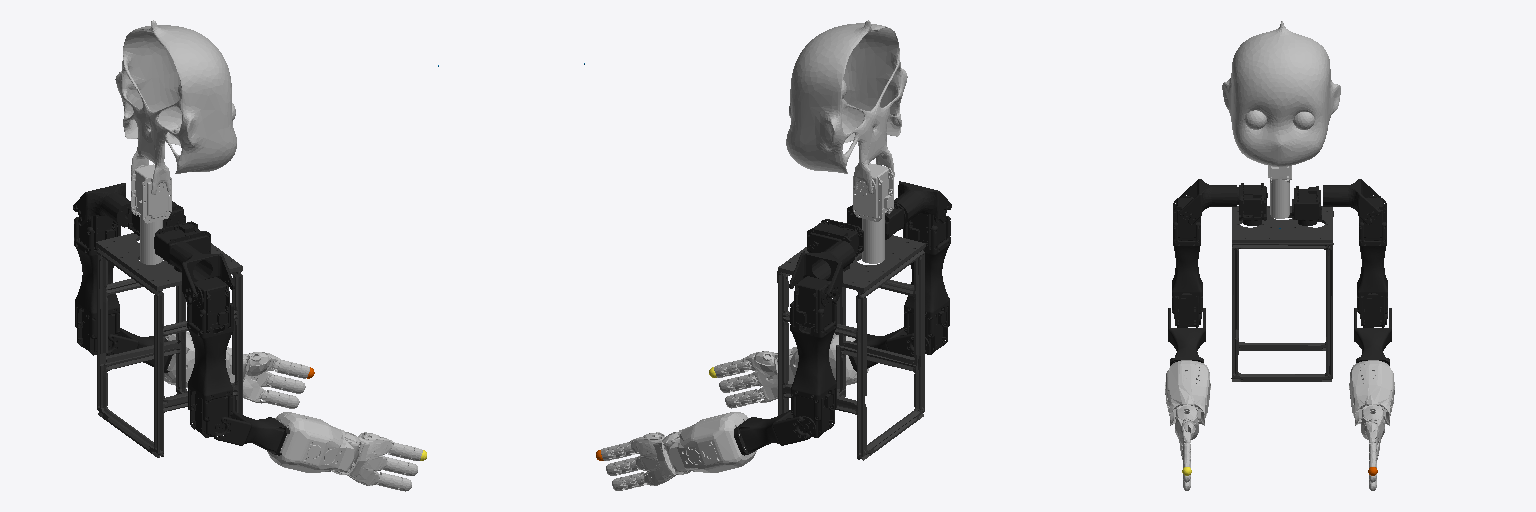
The robot description file, URDF, robot "nico_upper_rh6d":
<?xml version="1.0" ?>
<!-- =================================================================================== -->
<!-- |    This document was manually created   and the meshes resized and repositioned | -->
<!-- |    EDITING THIS FILE BY HAND IS NOT RECOMMENDED                                 | -->
<!-- =================================================================================== -->
<!--
  Copyright (c) 2023, [author]
  All rights reserved.

  This work is licensed under the Creative Commons Attribution-NonCommercial-NoDerivs 3.0 Unported License.
  To view a copy of this license, visit http://creativecommons.org/licenses/by-nc-nd/3.0/ or send a letter to
  Creative Commons, 444 Castro Street, Suite 900, Mountain View, California, 94041, USA.
-->
<robot name="nico_upper_rh6d">
	<link name="world" />
	<link name="torso">
		<visual>
			<geometry>
				<mesh filename="mesh/torso.stl"/>
			</geometry>
			<origin rpy="0 0 0" xyz="0.0 0.0 0.0"/>
			<material name="torso_color">
				<color rgba="0.270588 0.270588 0.270588 1"/>
			</material>
		</visual>
		<inertial>
			<mass value="0.090439"/>
			<inertia ixx="0.00006" ixy="-0" ixz="-0" iyy="0.000056" iyz="-0.000001" izz="0.000019"/>
			<origin rpy="0 0 0" xyz="0 0.000266 0.050352"/>
		</inertial>

	</link>
	<joint name="world_to_base_link" type="fixed">
    	<parent link="world"/>
    	<child link="torso"/>
  	</joint>
    <link name="neck">
		<visual>
			<geometry>
				<mesh filename="mesh/neck.stl"/>
			</geometry>
			<origin rpy="0 0 0" xyz="0.0 0.0 0.0"/>
			<material name="neck_color">
				<color rgba="0.74902 0.74902 0.74902 1"/>
			</material>
		</visual>
		<collision>
			<geometry>
				<mesh filename="mesh/neck.stl"/>
			</geometry>
			<origin rpy="0 0 0" xyz="0.0 0.0 0.0"/>
		</collision>
		<inertial>
			<mass value="0.090439"/>
			<inertia ixx="0.00006" ixy="-0" ixz="-0" iyy="0.000056" iyz="-0.000001" izz="0.000019"/>
			<origin rpy="0 0 0" xyz="0 0.000266 0.050352"/>
		</inertial>
	</link>
	<joint name="head_z_rjoint" type="revolute">
		<parent link="torso"/>
		<child link="neck"/>
		<origin rpy="0 0 0" xyz="-0.025 0.000 0.23"/>
		<axis xyz="0 0 1"/>
		<limit effort="30" lower="-1.5708" upper="1.5708" velocity="1"/>
	</joint>
	<link name="head">
		<visual>
			<geometry>
				<mesh filename="mesh/head.stl"/>
			</geometry>
			<origin rpy="0 0 0" xyz="0 0 0"/>
			<material name="head_color">
				<color rgba="0.74902 0.74902 0.74902 1"/>
			</material>
		</visual>
		<collision>
			<geometry>
				<mesh filename="mesh/head.stl"/>
			</geometry>
			<origin rpy="0 0 0" xyz="0 0 0"/>
		</collision>
		<inertial>
			<mass value="0.294137"/>
			<inertia ixx="0.001424" ixy="-0" ixz="0.000083" iyy="0.00159" iyz="-0.000002" izz="0.001485"/>
			<origin rpy="0 0 0" xyz="0.01525 -0.023771 0.09423"/>
		</inertial>
	</link>
	<joint name="head_y_rjoint" type="revolute">
		<parent link="neck"/>
		<child link="head"/>
		<origin rpy="0 0 0" xyz="0 0.0 0.105"/>
		<axis xyz="0 -1 0"/>
		<limit effort="30" lower="-0.8726" upper="0.4363" velocity="1"/>
	</joint>
	<link name="sight">
    	<visual>
      		<origin rpy="0 1.67 0" xyz="0.4 0.0 0.06"/>
      		<geometry>
        		<cylinder radius="0.001" length = "0.001"/>
      		</geometry>
    	</visual>
		<inertial>
			<mass value="0.000009"/>
			<inertia ixx="0" ixy="0" ixz="-0" iyy="0" iyz="0" izz="0"/>
			<origin rpy="0 0 0" xyz="0.005409 0.000556 -0.005751"/>
		</inertial>
  	</link>
	<joint name="eyesight" type="fixed">
		<parent link="head"/>
		<child link="sight"/>
		<origin rpy="0 0 0" xyz="0 0.0 0.0"/>
		<axis xyz="0 0 0"/>
		<limit effort="30" lower="-0.8726" upper="0.4363" velocity="1"/>
	</joint>
	
    <!-- ====RIGHT ARM=== -->
	<link name="right_shoulder">
		<visual>
			<geometry>
				<mesh filename="mesh/right_shoulder.stl"/>
			</geometry>
			<origin rpy="0 0 0" xyz="0 0 0"/>
			<material name="right_shoulder_color">
				<color rgba="0.176471 0.176471 0.176471 1"/>
			</material>
		</visual>
		<collision>
			<geometry>
				<mesh filename="mesh/right_shoulder.stl"/>
			</geometry>
			<origin rpy="0 0 0" xyz="0 0 0"/>
		</collision>
		<inertial>
			<mass value="0.084038"/>
			<inertia ixx="0.000026" ixy="-0.000001" ixz="-0.000002" iyy="0.000034" iyz="-0" izz="0.000033"/>
			<origin rpy="0 0 0" xyz="0.005637 0.000876 0.033153"/>
		</inertial>
	</link>
	<joint name="r_shoulder_z_rjoint" type="revolute">
		<parent link="torso"/>
		<child link="right_shoulder"/>
		<origin rpy="0 0 0" xyz="0.000 -0.040 0.23"/>
		<axis xyz="0 0 1"/>
		<limit effort="30" lower="-0.4363" upper="1.3963" velocity="1"/>
	</joint>
	<link name="right_collarbone">
		<visual>
			<geometry>
				<mesh filename="mesh/right_collar.stl"/>
			</geometry>
			<origin rpy="0 0 0" xyz="0 0 0"/>
			<material name="right_collarbone_color">
				<color rgba="0.176471 0.176471 0.176471 1"/>
			</material>
		</visual>
		<collision>
			<geometry>
				<mesh filename="mesh/right_collar.stl"/>
			</geometry>
			<origin rpy="0 0 0" xyz="0 0 0"/>
		</collision>
		<inertial>
			<mass value="0.024811"/>
			<inertia ixx="0.000014" ixy="-0" ixz="0" iyy="0.000011" iyz="-0.000001" izz="0.000019"/>
			<origin rpy="0 0 0" xyz="-0 -0.041345 -0.002364"/>
		</inertial>
	</link>
	<joint name="r_shoulder_y_rjoint" type="revolute">
		<parent link="right_shoulder"/>
		<child link="right_collarbone"/>
		<origin rpy="0 0 0" xyz="-0.021 -0.023 0.033"/>
		<axis xyz="0 -1 0"/>
		<limit effort="30" lower="-1.5707" upper="3.1416" velocity="1"/>
	</joint>
	<link name="right_upper_arm">
		<visual>
			<geometry>
				<mesh filename="mesh/right_upper_arm.stl"/>
			</geometry>
			<origin rpy="0 0 0" xyz="0 0 0"/>
			<material name="right_upper_arm_color">
				<color rgba="0.176471 0.176471 0.176471 1"/>
			</material>
		</visual>
		<collision>
			<geometry>
				<mesh filename="mesh/right_upper_arm.stl"/>
			</geometry>
			<origin rpy="0 0 0" xyz="0 0 0"/>
		</collision>
		<inertial>
			<mass value="0.189729"/>
			<inertia ixx="0.000851" ixy="0" ixz="0" iyy="0.000851" iyz="-0.000005" izz="0.000048"/>
			<origin rpy="0 0 0" xyz="-0.02306 -0.000321 -0.0866"/>
		</inertial>
	</link>
	<joint name="r_arm_x_rjoint" type="revolute">
		<parent link="right_collarbone"/>
		<child link="right_upper_arm"/>
		<origin rpy="0 0 0" xyz="0.00 -0.073 -0.023"/>
		<axis xyz="-1 0 0"/>
		<limit effort="30" lower="0" upper="1.2217" velocity="1"/>
	</joint>
	<link name="right_lower_arm">
		<visual>
			<geometry>
				<mesh filename="mesh/right_lower_arm.stl"/>
			</geometry>
			<origin rpy="0 0 0" xyz="0 0 0"/>
			<material name="right_lower_arm_color">
				<color rgba="0.176471 0.176471 0.176471 1"/>
			</material>
		</visual>
		<collision>
			<geometry>
				<mesh filename="mesh/right_lower_arm.stl"/>
			</geometry>
			<origin rpy="0 0 0" xyz="0 0 0"/>
		</collision>
		<inertial>
			<mass value="0.076793"/>
			<inertia ixx="0.000104" ixy="-0" ixz="-0" iyy="0.000095" iyz="-0.000002" izz="0.000021"/>
			<origin rpy="0 0 0" xyz="0 0.022485 -0.081055"/>
		</inertial>
	</link>
	<joint name="r_elbow_y_rjoint" type="revolute">
		<parent link="right_upper_arm"/>
		<child link="right_lower_arm"/>
		<origin rpy="0 3.14 0" xyz="0.0 0 -0.17"/>
		<axis xyz="0 1 0"/>
		<limit effort="30" lower="0.8726" upper="3.1416" velocity="1"/>
	</joint>
	<link name="right_wrist">
		<visual>
			<geometry>
				<mesh filename="mesh/right_wrist.stl"/>
			</geometry>
			<origin rpy="0 0 0" xyz="0 0 0"/>
			<material name="right_wrist_color">
				<color rgba="0.74902 0.74902 0.74902 1"/>
			</material>
		</visual>
		<collision>
			<geometry>
				<mesh filename="mesh/right_wrist.stl"/>
			</geometry>
			<origin rpy="0 0 0" xyz="0 0 0"/>
		</collision>
		<inertial>
			<mass value="0.028397"/>
			<inertia ixx="0.000043" ixy="-0" ixz="0.000004" iyy="0.000058" iyz="-0.000007" izz="0.000029"/>
			<origin rpy="0 0 0" xyz="0.000031 -0.011056 -0.0675"/>
		</inertial>
	</link>
	<joint name="r_wrist_z_rjoint" type="revolute">
		<parent link="right_lower_arm"/>
		<child link="right_wrist"/>
		<origin rpy="0 0 1.57" xyz="0 0 -0.105"/>
		<axis xyz="0 0 1"/>
		<limit effort="30" lower="-1.57079633" upper="1.57079633" velocity="1"/>
	</joint>
	<link name="gripper"> <!--gripper-->
		<visual>
			<geometry>
				<mesh filename="mesh/right_palm.stl"/>
			</geometry>
			<origin rpy="0 0 0" xyz="0 0 0"/>
			<material name="gripper_color">
				<color rgba="0.74902 0.74902 0.74902 1"/>
			</material>
		</visual>
		<collision>
			<geometry>
				<mesh filename="mesh/right_palm.stl"/>
			</geometry>
			<origin rpy="0 0 0" xyz="0 0 0"/>
		</collision>
		<inertial>
			<mass value="0.005332"/>
			<inertia ixx="0.000015" ixy="0.000001" ixz="-0.000004" iyy="0.000017" iyz="0.000004" izz="0.000006"/>
			<origin rpy="0 0 0" xyz="-0.029511 0.002253 -0.023968"/>
		</inertial>
	</link>

	<joint name="r_wrist_x_rjoint" type="revolute">
		<parent link="right_wrist"/>
		<child link="gripper"/>
		<origin rpy="0 0 0" xyz="0 0 -0.10"/>
		<axis xyz="0 -1 0"/>
		<limit effort="30" lower="-0.785398163" upper="0.785398163" velocity="1"/>
	</joint>
	<link name="endeffector">
    	<visual>
      		<origin rpy="0 0 0" xyz="0 0.0 0.0"/>
      		<geometry>
        		<sphere radius="0.007"/>
      		</geometry>
    	</visual>
  	</link>
	<joint name="endeffector_joint" type="fixed">
    	<parent link="gripper"/>
    	<child link="endeffector"/>
    	<origin rpy="0 0 0" xyz="0.00 -0.02 -0.11"/>
	</joint>
	<link name="r_middlefinger">
		<visual>
			<geometry>
				<mesh filename="mesh/finger.stl"/>
			</geometry>
			<origin rpy="0 0 0" xyz="0 0 0"/>
			<material name="finger_color">
				<color rgba="0.74902 0.74902 0.74902 1"/>
			</material>
		</visual>
		<collision>
			<geometry>
				<mesh filename="mesh/finger.stl"/>
			</geometry>
			<origin rpy="0 0 0" xyz="0 0 0"/>
		</collision>
		<inertial>
			<mass value="0.000009"/>
			<inertia ixx="0" ixy="0" ixz="-0" iyy="0" iyz="0" izz="0"/>
			<origin rpy="0 0 0" xyz="0.005409 0.000556 -0.005751"/>
		</inertial>
	</link>
	<link name="r_littlefinger">
		<visual>
			<geometry>
				<mesh filename="mesh/finger.stl"/>
			</geometry>
			<origin rpy="0 0 0" xyz="0 0 0"/>
			<material name="finger_color">
				<color rgba="0.74902 0.74902 0.74902 1"/>
			</material>
		</visual>
		<collision>
			<geometry>
				<mesh filename="mesh/finger.stl"/>
			</geometry>
			<origin rpy="0 0 0" xyz="0 0 0"/>
		</collision>
		<inertial>
			<mass value="0.000009"/>
			<inertia ixx="0" ixy="0" ixz="-0" iyy="0" iyz="0" izz="0"/>
			<origin rpy="0 0 0" xyz="0.005409 0.000556 -0.005751"/>
		</inertial>
	</link>
	<link name="r_indexfinger"> <!--indexfinder-->
		<visual>
			<geometry>
				<mesh filename="mesh/finger.stl"/>
			</geometry>
			<origin rpy="0 0 0" xyz="0 0 0"/>
			<material name="finger_color">
				<color rgba="0.74902 0.74902 0.74902 1"/>
			</material>
		</visual>
		<collision>
			<geometry>
				<mesh filename="mesh/finger.stl"/>
			</geometry>
			<origin rpy="0 0 0" xyz="0 0 0"/>
		</collision>
		<inertial>
			<mass value="0.000009"/>
			<inertia ixx="0" ixy="0" ixz="-0" iyy="0" iyz="0" izz="0"/>
			<origin rpy="0 0 0" xyz="0.005409 0.000556 -0.005751"/>
		</inertial>
	</link>
	<joint name="r_middlefinger_x" type="fixed">
		<parent link="gripper"/>
		<child link="r_middlefinger"/>
		<origin rpy="0 0 0" xyz="0 0 -0.06"/>
		<axis xyz="0 1 0"/>
		<limit effort="30" lower="-2.57" upper="0" velocity="1"/>
	</joint>
	<joint name="r_litlefinger_x" type="fixed">
		<parent link="gripper"/>
		<child link="r_littlefinger"/>
		<origin rpy="0 0 0" xyz="0.00 0.02 -0.06"/>
		<axis xyz="0 1 0"/>
		<limit effort="30" lower="-2.57" upper="0" velocity="1"/>
	</joint>
	<joint name="r_indexfinger_x" type="fixed">
		<parent link="gripper"/>
		<child link="r_indexfinger"/>
		<origin rpy="0 0 0" xyz="0.00 -0.02 -0.06"/>
		<axis xyz="0 1 0"/>
		<limit effort="30" lower="-2.57" upper="0" velocity="1"/>
	</joint>
    <!-- ====LEFT ARM=== -->
    <link name="left_shoulder">
		<visual>
			<geometry>
				<mesh filename="mesh/left_shoulder.stl"/>
			</geometry>
			<origin rpy="0 0 0" xyz="0 0 0"/>
			<material name="left_shoulder_color">
				<color rgba="0.176471 0.176471 0.176471 1"/>
			</material>
		</visual>
		<collision>
			<geometry>
				<mesh filename="mesh/left_shoulder.stl"/>
			</geometry>
			<origin rpy="0 0 0" xyz="0 0 0"/>
		</collision>
		<inertial>
			<mass value="0.084038"/>
			<inertia ixx="0.000026" ixy="-0.000001" ixz="-0.000002" iyy="0.000034" iyz="-0" izz="0.000033"/>
			<origin rpy="0 0 0" xyz="0.005637 0.000876 0.033153"/>
		</inertial>
	</link>
	<joint name="l_shoulder_z_rjoint" type="revolute">
		<parent link="torso"/>
		<child link="left_shoulder"/>
		<origin rpy="0 0 0" xyz="0.000 0.040 0.23"/>
		<axis xyz="0 0 -1"/>
		<limit effort="30" lower="-1.3963" upper="0.4363" velocity="1"/>
	</joint>
	<link name="left_collarbone">
		<visual>
			<geometry>
				<mesh filename="mesh/left_collar.stl"/>
			</geometry>
			<origin rpy="0 0 0" xyz="0 0 0"/>
			<material name="right_collarbone_color">
				<color rgba="0.176471 0.176471 0.176471 1"/>
			</material>
		</visual>
		<collision>
			<geometry>
				<mesh filename="mesh/left_collar.stl"/>
			</geometry>
			<origin rpy="0 0 0" xyz="0 0 0"/>
		</collision>
		<inertial>
			<mass value="0.024811"/>
			<inertia ixx="0.000014" ixy="-0" ixz="0" iyy="0.000011" iyz="-0.000001" izz="0.000019"/>
			<origin rpy="0 0 0" xyz="-0 -0.041345 -0.002364"/>
		</inertial>
	</link>
	<joint name="l_shoulder_y_rjoint" type="revolute">
		<parent link="left_shoulder"/>
		<child link="left_collarbone"/>
		<origin rpy="0 0 0" xyz="-0.021 0.023 0.033"/>
		<axis xyz="0 -1 0"/>
		<limit effort="30" lower="-1.5707" upper="3.1416" velocity="1"/>
	</joint>
	<link name="left_upper_arm">
		<visual>
			<geometry>
				<mesh filename="mesh/right_upper_arm.stl"/>
			</geometry>
			<origin rpy="0 0 0" xyz="0 0 0"/>
			<material name="right_upper_arm_color">
				<color rgba="0.176471 0.176471 0.176471 1"/>
			</material>
		</visual>
		<collision>
			<geometry>
				<mesh filename="mesh/right_upper_arm.stl"/>
			</geometry>
			<origin rpy="0 0 0" xyz="0 0 0"/>
		</collision>
		<inertial>
			<mass value="0.189729"/>
			<inertia ixx="0.000851" ixy="0" ixz="0" iyy="0.000851" iyz="-0.000005" izz="0.000048"/>
			<origin rpy="0 0 0" xyz="-0.02306 -0.000321 -0.0866"/>
		</inertial>
	</link>
	<joint name="l_arm_x_rjoint" type="revolute">
		<parent link="left_collarbone"/>
		<child link="left_upper_arm"/>
		<origin rpy="0 0 0" xyz="0.00 0.073 -0.023"/>
		<axis xyz="1 0 0"/>
		<limit effort="30" lower="0" upper="1.2217" velocity="1"/>
	</joint>
	<link name="left_lower_arm">
		<visual>
			<geometry>
				<mesh filename="mesh/right_lower_arm.stl"/>
			</geometry>
			<origin rpy="0 0 0" xyz="0 0 0"/>
			<material name="right_lower_arm_color">
				<color rgba="0.176471 0.176471 0.176471 1"/>
			</material>
		</visual>
		<collision>
			<geometry>
				<mesh filename="mesh/right_lower_arm.stl"/>
			</geometry>
			<origin rpy="0 0 0" xyz="0 0 0"/>
		</collision>
		<inertial>
			<mass value="0.076793"/>
			<inertia ixx="0.000104" ixy="-0" ixz="-0" iyy="0.000095" iyz="-0.000002" izz="0.000021"/>
			<origin rpy="0 0 0" xyz="0 0.022485 -0.081055"/>
		</inertial>
	</link>
	<joint name="l_elbow_y_rjoint" type="revolute">
		<parent link="left_upper_arm"/>
		<child link="left_lower_arm"/>
		<origin rpy="0 3.14 0" xyz="0.0 0 -0.17"/>
		<axis xyz="0 1 0"/>
		<limit effort="30" lower="0.8726" upper="3.1416" velocity="1"/>
	</joint>
	<link name="left_wrist">
		<visual>
			<geometry>
				<mesh filename="mesh/left_wrist.stl"/>
			</geometry>
			<origin rpy="0 0 0" xyz="0 0 0"/>
			<material name="right_wrist_color">
				<color rgba="0.74902 0.74902 0.74902 1"/>
			</material>
		</visual>
		<collision>
			<geometry>
				<mesh filename="mesh/left_wrist.stl"/>
			</geometry>
			<origin rpy="0 0 0" xyz="0 0 0"/>
		</collision>
		<inertial>
			<mass value="0.028397"/>
			<inertia ixx="0.000043" ixy="-0" ixz="0.000004" iyy="0.000058" iyz="-0.000007" izz="0.000029"/>
			<origin rpy="0 0 0" xyz="0.000031 -0.011056 -0.0675"/>
		</inertial>
	</link>
	<joint name="l_wrist_z_rjoint" type="revolute">
		<parent link="left_lower_arm"/>
		<child link="left_wrist"/>
		<origin rpy="0 0 1.57" xyz="0 0 -0.105"/>
		<axis xyz="0 0 -1"/>
		<limit effort="30" lower="-1.571" upper="1.571" velocity="1"/>
	</joint>
	<link name="left_palm"> <!--gripper-->
		<visual>
			<geometry>
				<mesh filename="mesh/left_palm.stl"/>
			</geometry>
			<origin rpy="0 0 0" xyz="0 0 0"/>
			<material name="gripper_color">
				<color rgba="0.74902 0.74902 0.74902 1"/>
			</material>
		</visual>
		<collision>
			<geometry>
				<mesh filename="mesh/left_palm.stl"/>
			</geometry>
			<origin rpy="0 0 0" xyz="0 0 0"/>
		</collision>
		<inertial>
			<mass value="0.005332"/>
			<inertia ixx="0.000015" ixy="0.000001" ixz="-0.000004" iyy="0.000017" iyz="0.000004" izz="0.000006"/>
			<origin rpy="0 0 0" xyz="-0.029511 0.002253 -0.023968"/>
		</inertial>
	</link>
	<joint name="l_wrist_x_rjoint" type="revolute">
		<parent link="left_wrist"/>
		<child link="left_palm"/>
		<origin rpy="0 0 0" xyz="0 0 -0.10"/>
		<axis xyz="0 1 0"/>
		<limit effort="30" lower="-.78" upper="0.78" velocity="1"/>
	</joint>
    <link name="endeffectol">
    	<visual>
      		<origin rpy="0 0 0" xyz="0 0.0 0.0"/>
      		<geometry>
        		<sphere radius="0.007"/>
      		</geometry>
    	</visual>
  	</link>
	<joint name="endeffectol_joint" type="fixed">
    	<parent link="left_palm"/>
    	<child link="endeffectol"/>
    	<origin rpy="0 0 0" xyz="0.00 -0.02 -0.11"/>
	</joint>
	<link name="l_middlefinger">
		<visual>
			<geometry>
				<mesh filename="mesh/finger.stl"/>
			</geometry>
			<origin rpy="0 0 0" xyz="0 0 0"/>
			<material name="finger_color">
				<color rgba="0.74902 0.74902 0.74902 1"/>
			</material>
		</visual>
		<collision>
			<geometry>
				<mesh filename="mesh/finger.stl"/>
			</geometry>
			<origin rpy="0 0 0" xyz="0 0 0"/>
		</collision>
		<inertial>
			<mass value="0.000009"/>
			<inertia ixx="0" ixy="0" ixz="-0" iyy="0" iyz="0" izz="0"/>
			<origin rpy="0 0 0" xyz="0.005409 0.000556 -0.005751"/>
		</inertial>
	</link>
	<link name="l_littlefinger">
		<visual>
			<geometry>
				<mesh filename="mesh/finger.stl"/>
			</geometry>
			<origin rpy="0 0 0" xyz="0 0 0"/>
			<material name="finger_color">
				<color rgba="0.74902 0.74902 0.74902 1"/>
			</material>
		</visual>
		<collision>
			<geometry>
				<mesh filename="mesh/finger.stl"/>
			</geometry>
			<origin rpy="0 0 0" xyz="0 0 0"/>
		</collision>
		<inertial>
			<mass value="0.000009"/>
			<inertia ixx="0" ixy="0" ixz="-0" iyy="0" iyz="0" izz="0"/>
			<origin rpy="0 0 0" xyz="0.005409 0.000556 -0.005751"/>
		</inertial>
	</link>
	<link name="l_indexfinger"> <!--indexfinder-->
		<visual>
			<geometry>
				<mesh filename="mesh/finger.stl"/>
			</geometry>
			<origin rpy="0 0 0" xyz="0 0 0"/>
			<material name="finger_color">
				<color rgba="0.74902 0.74902 0.74902 1"/>
			</material>
		</visual>
		<collision>
			<geometry>
				<mesh filename="mesh/finger.stl"/>
			</geometry>
			<origin rpy="0 0 0" xyz="0 0 0"/>
		</collision>
		<inertial>
			<mass value="0.000009"/>
			<inertia ixx="0" ixy="0" ixz="-0" iyy="0" iyz="0" izz="0"/>
			<origin rpy="0 0 0" xyz="0.005409 0.000556 -0.005751"/>
		</inertial>
	</link>
	<joint name="l_middlefinger_x" type="fixed">
		<parent link="left_palm"/>
		<child link="l_middlefinger"/>
		<origin rpy="0 0 0" xyz="0 0 -0.06"/>
		<axis xyz="0 1 0"/>
		<limit effort="30" lower="-2.57" upper="0" velocity="1"/>
	</joint>
	<joint name="l_litlefinger_x" type="fixed">
		<parent link="left_palm"/>
		<child link="l_littlefinger"/>
		<origin rpy="0 0 0" xyz="0.00 0.02 -0.06"/>
		<axis xyz="0 1 0"/>
		<limit effort="30" lower="-2.57" upper="0" velocity="1"/>
	</joint>
	<joint name="l_indexfiner_x" type="fixed">
		<parent link="left_palm"/>
		<child link="l_indexfinger"/>
		<origin rpy="0 0 0" xyz="0.00 -0.02 -0.06"/>
		<axis xyz="0 1 0"/>
		<limit effort="30" lower="0" upper="2.57" velocity="1"/>
	</joint>
</robot>

--- Facts derived from the render (not from the file) ---
Views: 3 orthographic renders of the robot side by side, from view 1: azimuth 30°, elevation 25°; view 2: azimuth 150°, elevation 25°; view 3: azimuth 270°, elevation 25°.
Model nico_upper_rh6d with 25 links and 24 joints (14 revolute, 10 fixed), rooted at world, posed joints at zero except 2 at the middle of their limits (r_elbow_y_rjoint = 2.01, l_elbow_y_rjoint = 2.01).
Visible links, largest first — view 1: head, torso, right_upper_arm, right_wrist, left_upper_arm, neck, right_collarbone, right_lower_arm, gripper, left_collarbone, right_shoulder, left_palm (+3 smaller); view 2: head, torso, left_upper_arm, right_upper_arm, left_wrist, neck, left_lower_arm, left_collarbone, left_palm, right_collarbone, left_shoulder, gripper (+3 smaller); view 3: head, torso, right_upper_arm, left_upper_arm, right_wrist, left_wrist, left_collarbone, right_collarbone, left_lower_arm, right_lower_arm, right_shoulder, neck (+3 smaller).
Link boxes in pixels (left/top/right/bottom): head: left=115, top=20, right=236, bottom=194; torso: left=96, top=233, right=242, bottom=457; right_upper_arm: left=187, top=277, right=233, bottom=437; right_wrist: left=267, top=412, right=359, bottom=472; left_upper_arm: left=74, top=213, right=120, bottom=355; neck: left=131, top=164, right=171, bottom=264; right_collarbone: left=169, top=242, right=234, bottom=304; right_lower_arm: left=214, top=410, right=289, bottom=455; gripper: left=331, top=432, right=392, bottom=485; left_collarbone: left=73, top=183, right=130, bottom=227; right_shoulder: left=154, top=221, right=210, bottom=271; left_palm: left=243, top=352, right=280, bottom=403; head: left=786, top=20, right=907, bottom=193; torso: left=777, top=235, right=925, bottom=460; left_upper_arm: left=790, top=276, right=836, bottom=437; right_upper_arm: left=903, top=211, right=950, bottom=354; left_wrist: left=663, top=412, right=756, bottom=472; neck: left=853, top=163, right=893, bottom=263; left_lower_arm: left=734, top=410, right=809, bottom=455; left_collarbone: left=789, top=241, right=854, bottom=303; left_palm: left=630, top=432, right=692, bottom=485; right_collarbone: left=894, top=181, right=951, bottom=223; left_shoulder: left=807, top=219, right=863, bottom=270; gripper: left=743, top=349, right=791, bottom=402; head: left=1222, top=21, right=1340, bottom=166; torso: left=1231, top=206, right=1333, bottom=381; right_upper_arm: left=1172, top=196, right=1202, bottom=327; left_upper_arm: left=1357, top=196, right=1387, bottom=327; right_wrist: left=1165, top=360, right=1210, bottom=425; left_wrist: left=1349, top=360, right=1394, bottom=425; left_collarbone: left=1323, top=179, right=1380, bottom=224; right_collarbone: left=1179, top=179, right=1236, bottom=224; left_lower_arm: left=1354, top=308, right=1391, bottom=365; right_lower_arm: left=1168, top=308, right=1205, bottom=365; right_shoulder: left=1237, top=183, right=1267, bottom=225; neck: left=1268, top=166, right=1291, bottom=218.
Bounding box of the posed robot: 0.4326 × 0.3362 × 0.6327 m (x, y, z).
Meshes: 14 distinct files referenced, 21 mesh visuals loaded (14 binary STL).
